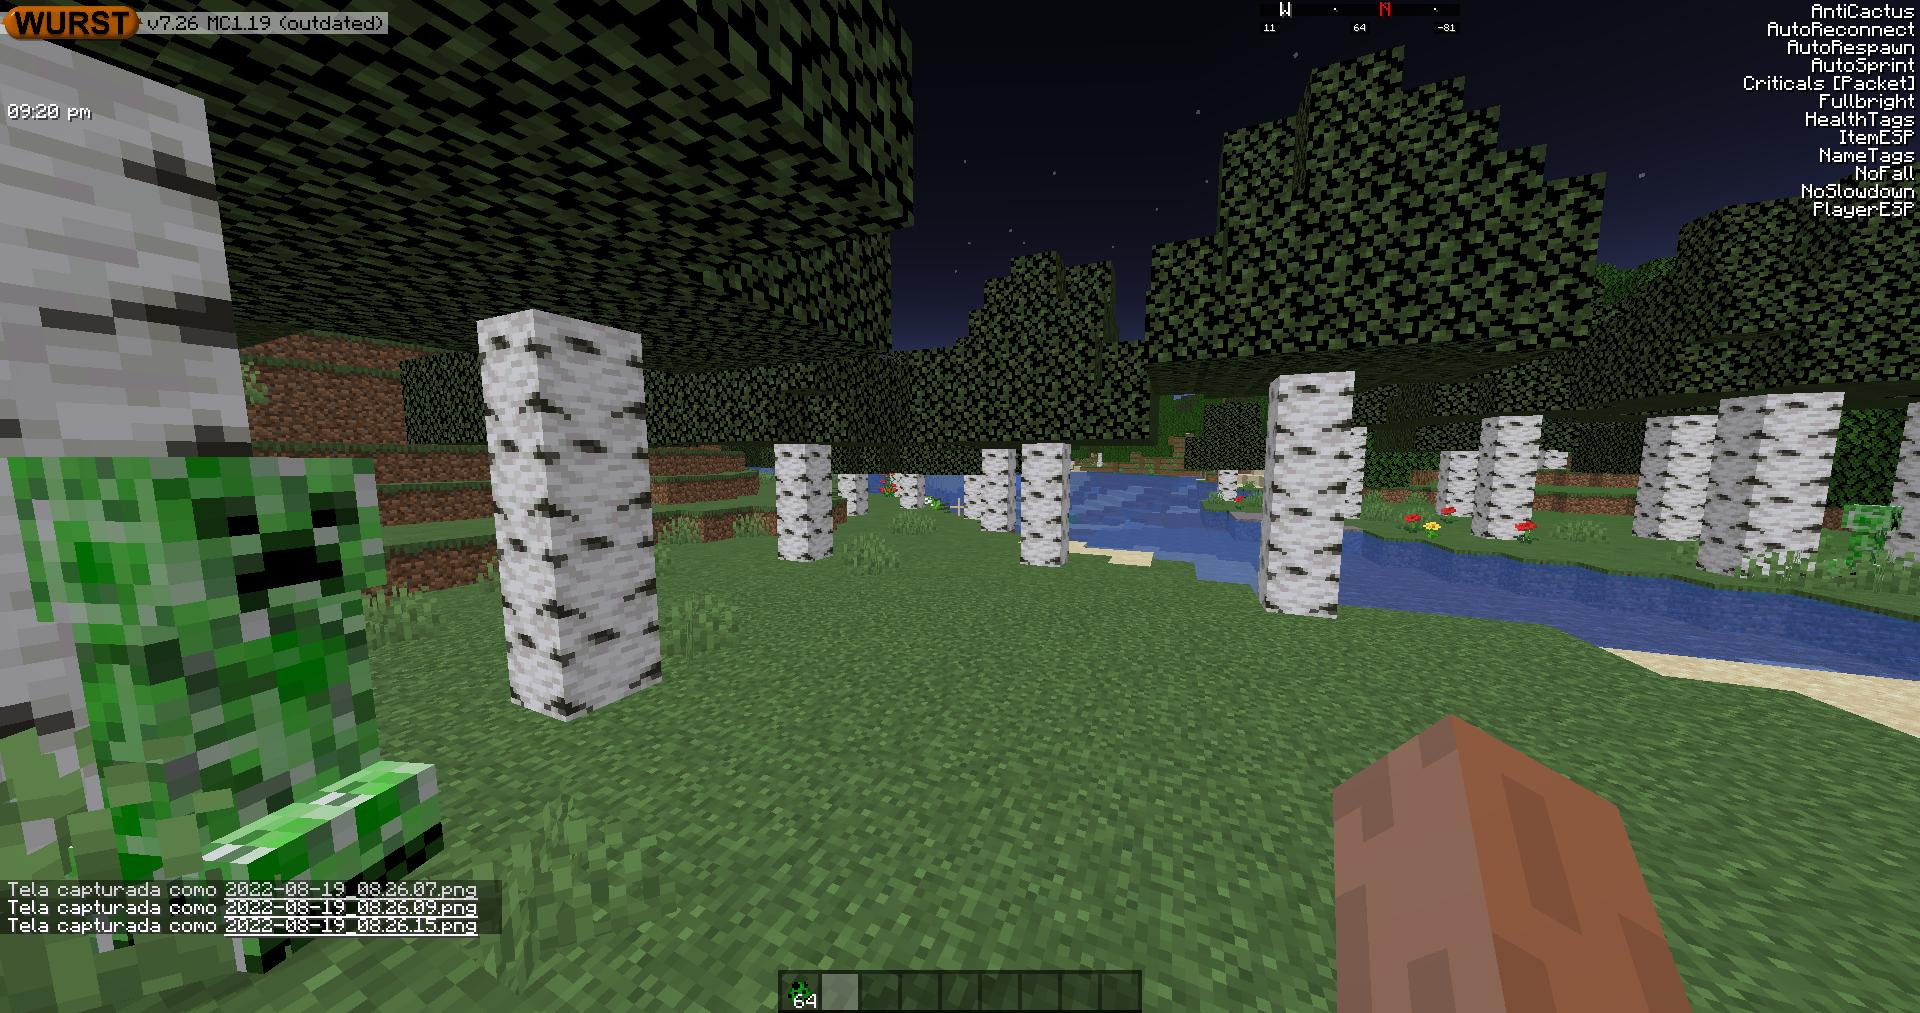creeper: (0, 443, 442, 878)
